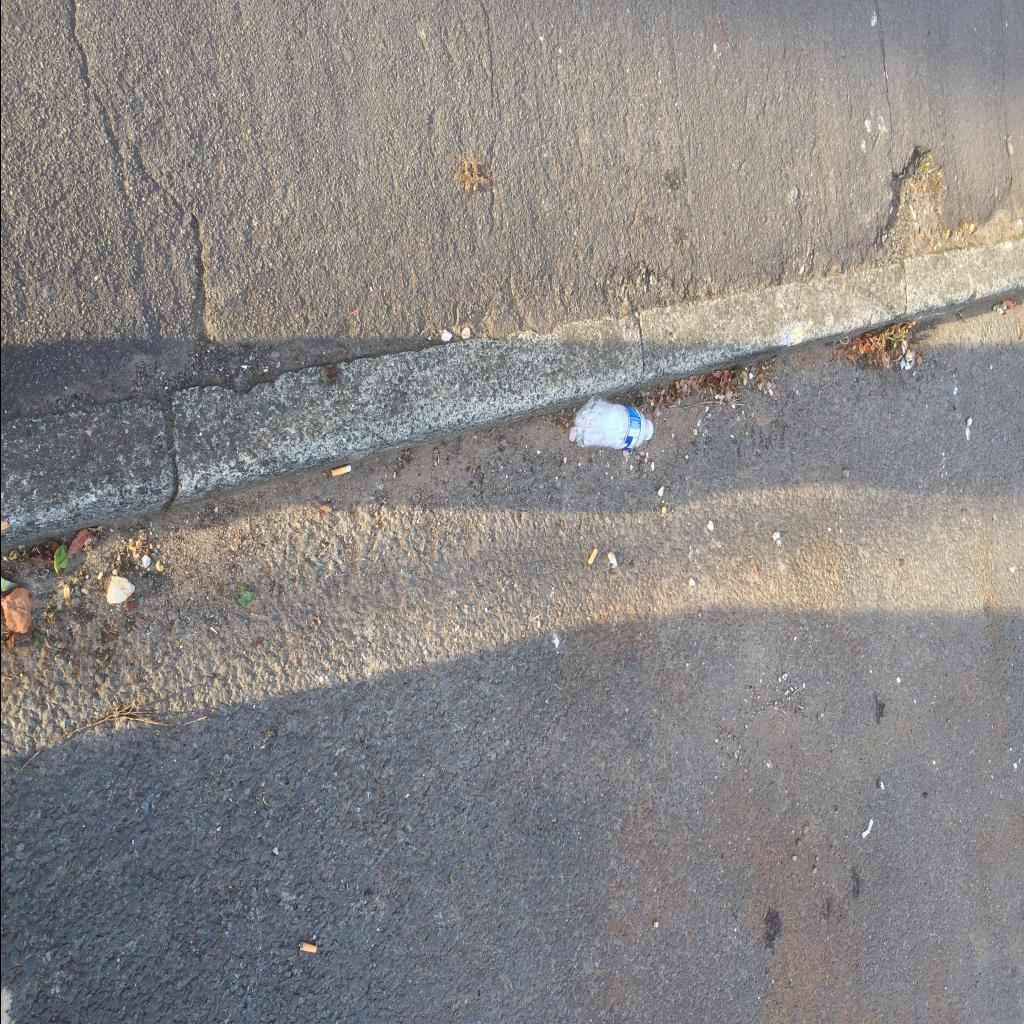Cigarette: (330, 464, 350, 476), (860, 818, 872, 838), (298, 941, 316, 953), (586, 548, 596, 564)
Clear plastic bottle: (573, 394, 652, 450)
